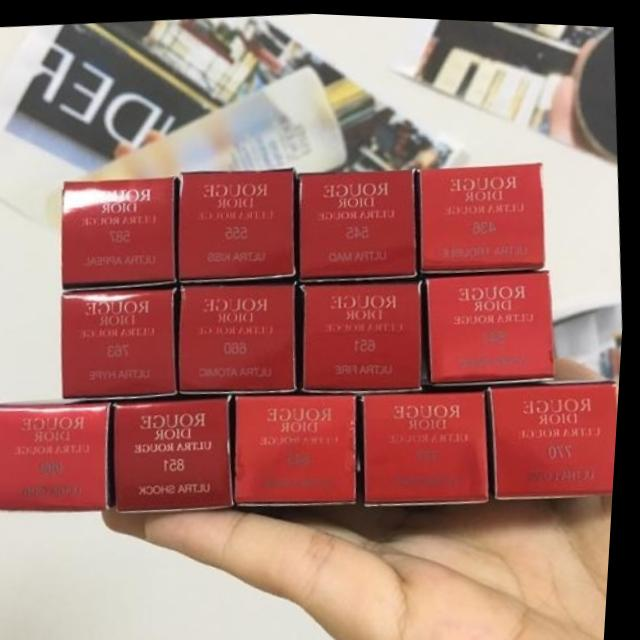box: (427, 264, 560, 383), (493, 374, 623, 495), (367, 383, 495, 502), (117, 392, 242, 510), (304, 275, 428, 390), (421, 157, 546, 270), (240, 390, 362, 504), (301, 164, 420, 278), (0, 398, 121, 510), (181, 166, 298, 281), (64, 284, 181, 399), (183, 279, 300, 394), (64, 176, 180, 289)
